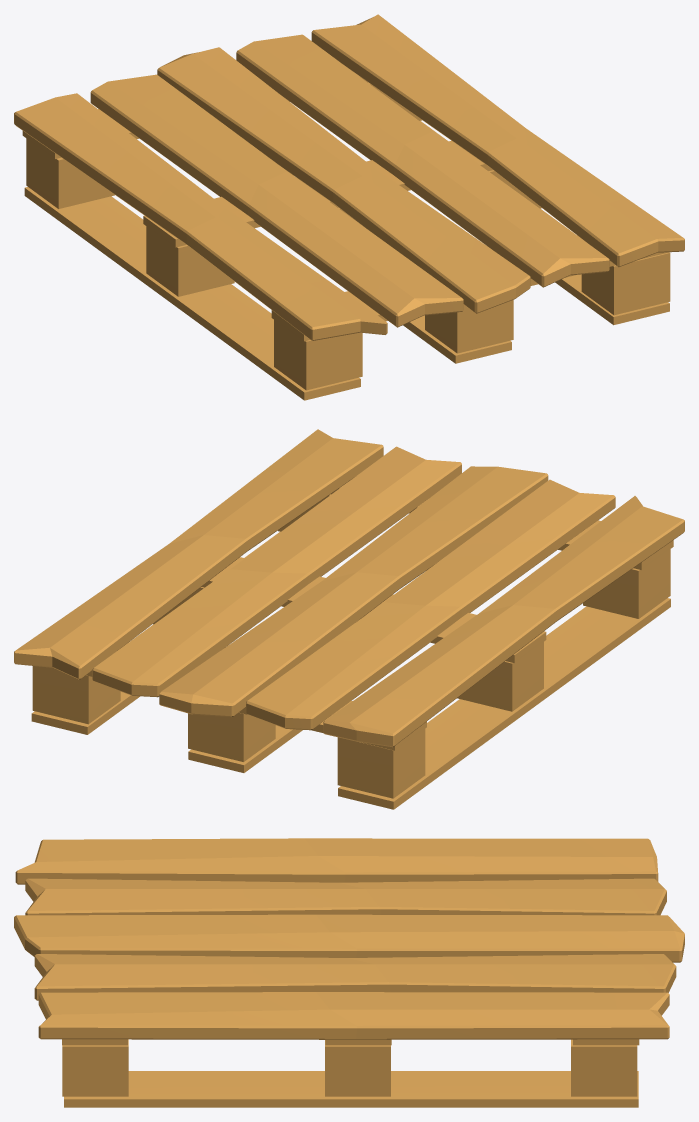
Rendered from Wooden Pallet .fbx.
The picture shows the model from 3 angles, top to bottom: view 1: azimuth 30°, elevation 25°; view 2: azimuth 150°, elevation 25°; view 3: azimuth 270°, elevation 25°; orthographic projection. The views are drawn at different scales.
Visible parts, largest first — view 1: Wooden Pallet; view 2: Wooden Pallet; view 3: Wooden Pallet.
Part boxes in pixels (left/top/right/bottom): Wooden Pallet: left=14, top=14, right=684, bottom=400; Wooden Pallet: left=14, top=429, right=684, bottom=809; Wooden Pallet: left=14, top=838, right=684, bottom=1107.
Size of the model in its own units: 121 by 25.83 by 182.
